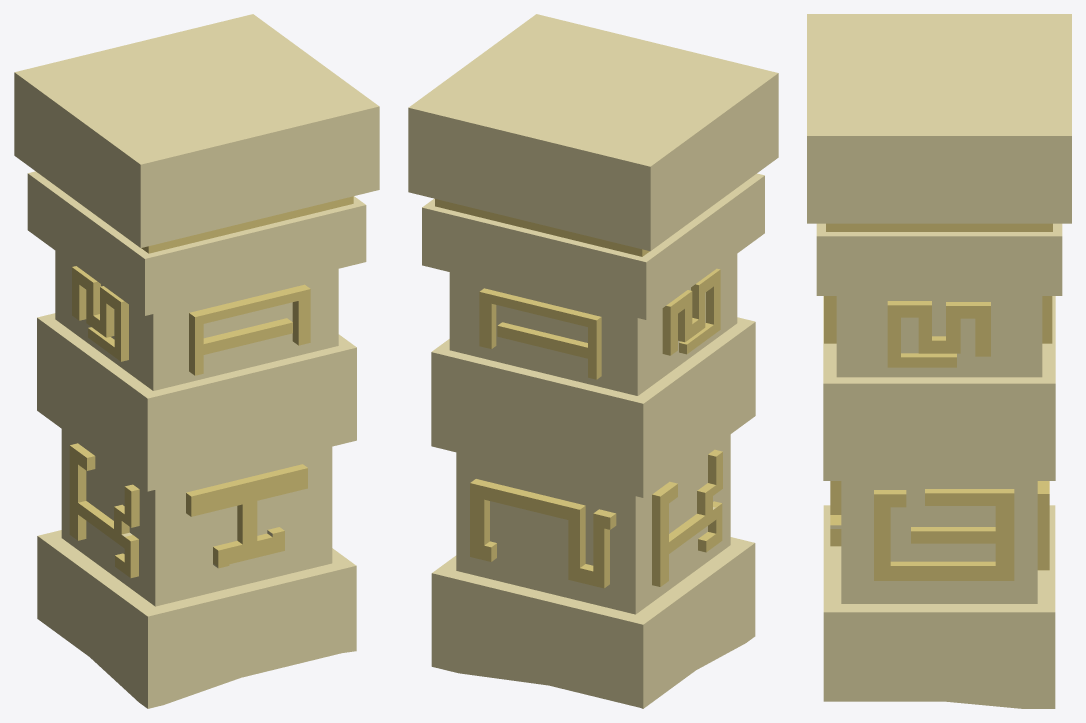
The model's file is Monument.glb.
3 views of the same model, side by side, from view 1: azimuth 30°, elevation 25°; view 2: azimuth 150°, elevation 25°; view 3: azimuth 270°, elevation 25° (orthographic). The views are drawn at different scales.
Visible parts, largest first — view 1: Monument; view 2: Monument; view 3: Monument.
Part boxes in pixels (x1=…): Monument: x1=14, y1=14, x2=379, y2=708; Monument: x1=408, y1=14, x2=778, y2=708; Monument: x1=807, y1=14, x2=1071, y2=708.
Size of the model in its own units: 1.34 by 2.96 by 1.22.
Materials: 1 (1 with a texture image).
